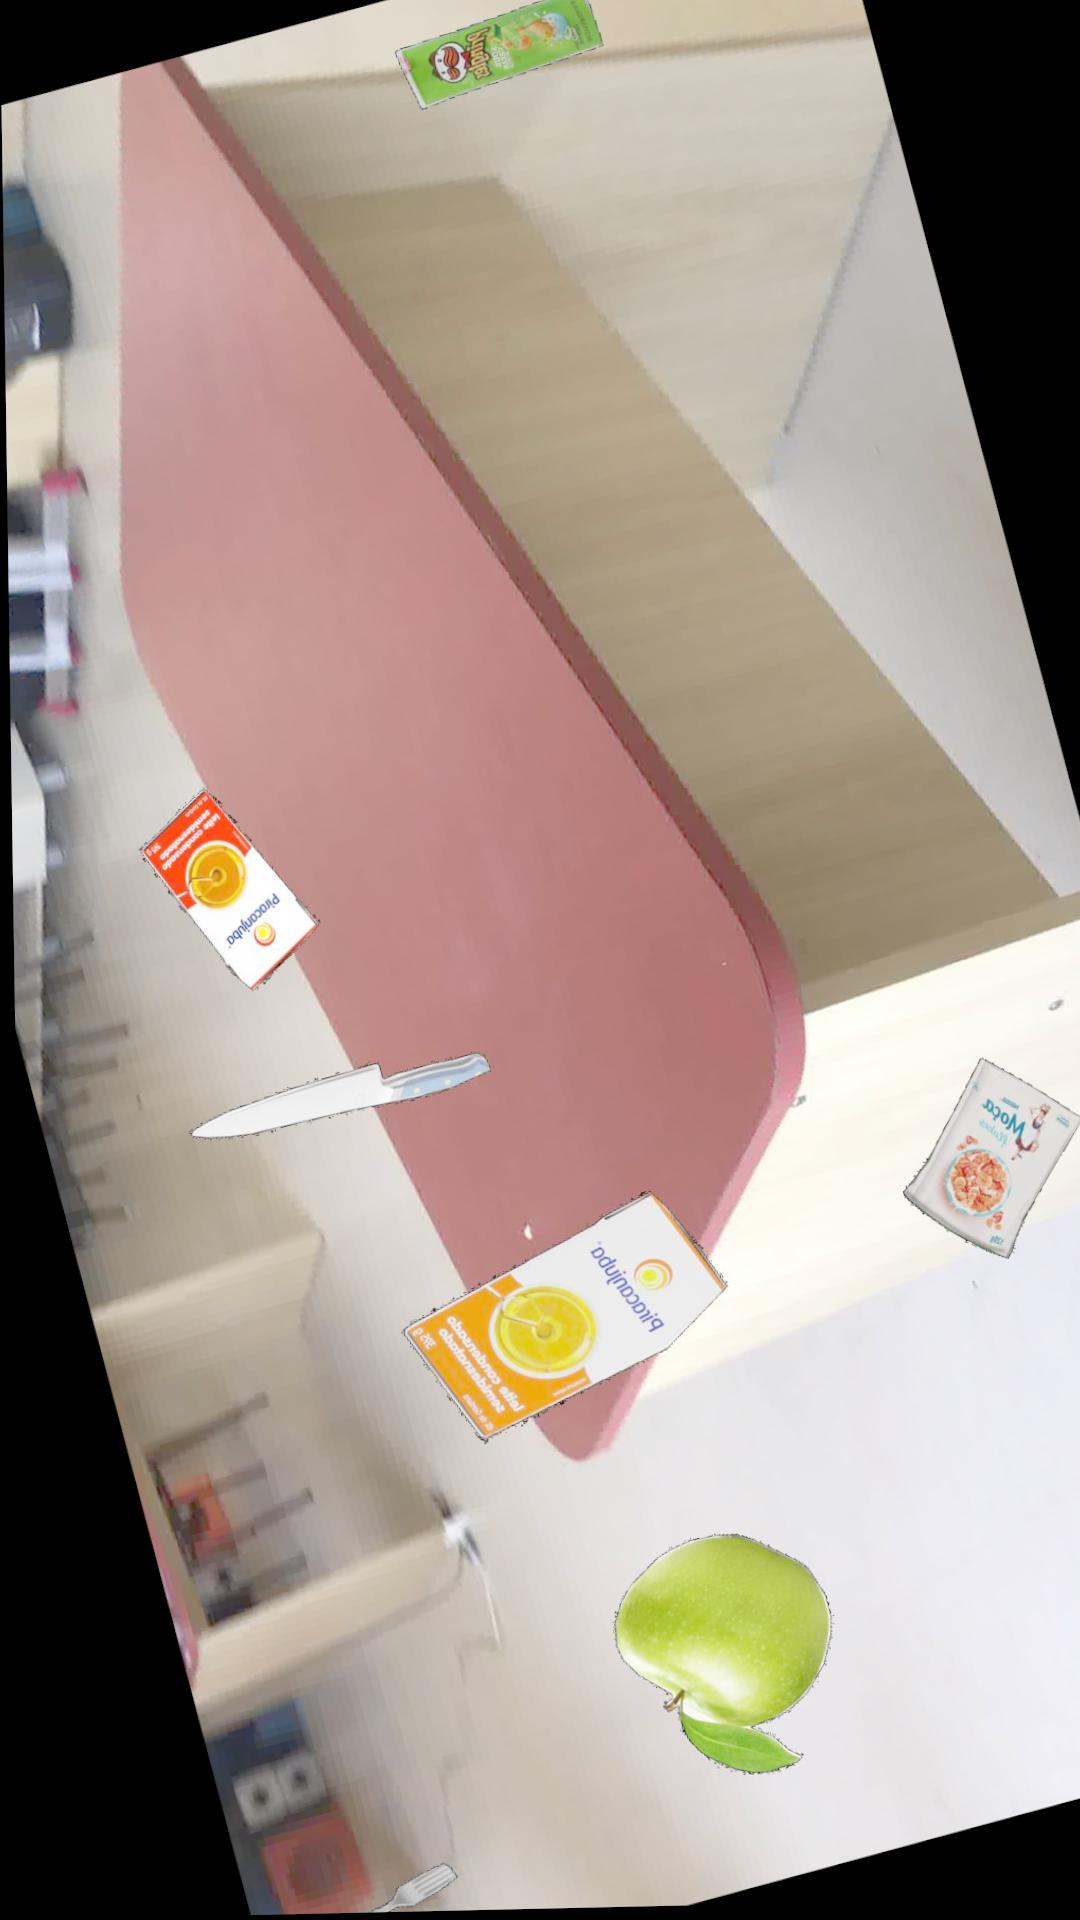corn flakes: (901, 1063, 1080, 1265)
fork: (368, 1866, 454, 1913)
green apple: (612, 1538, 828, 1779)
knife: (189, 1055, 489, 1141)
pringles: (397, 0, 605, 112)
